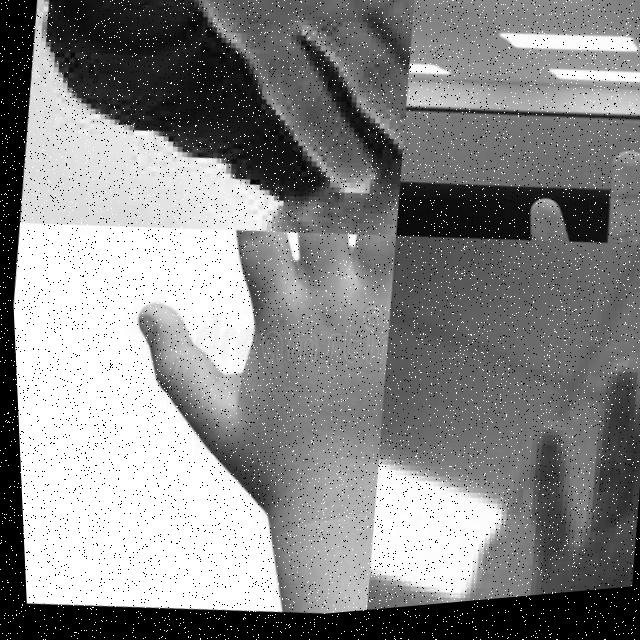hand: (106, 212, 403, 561), (92, 0, 424, 247), (501, 331, 640, 606), (504, 120, 640, 266)
